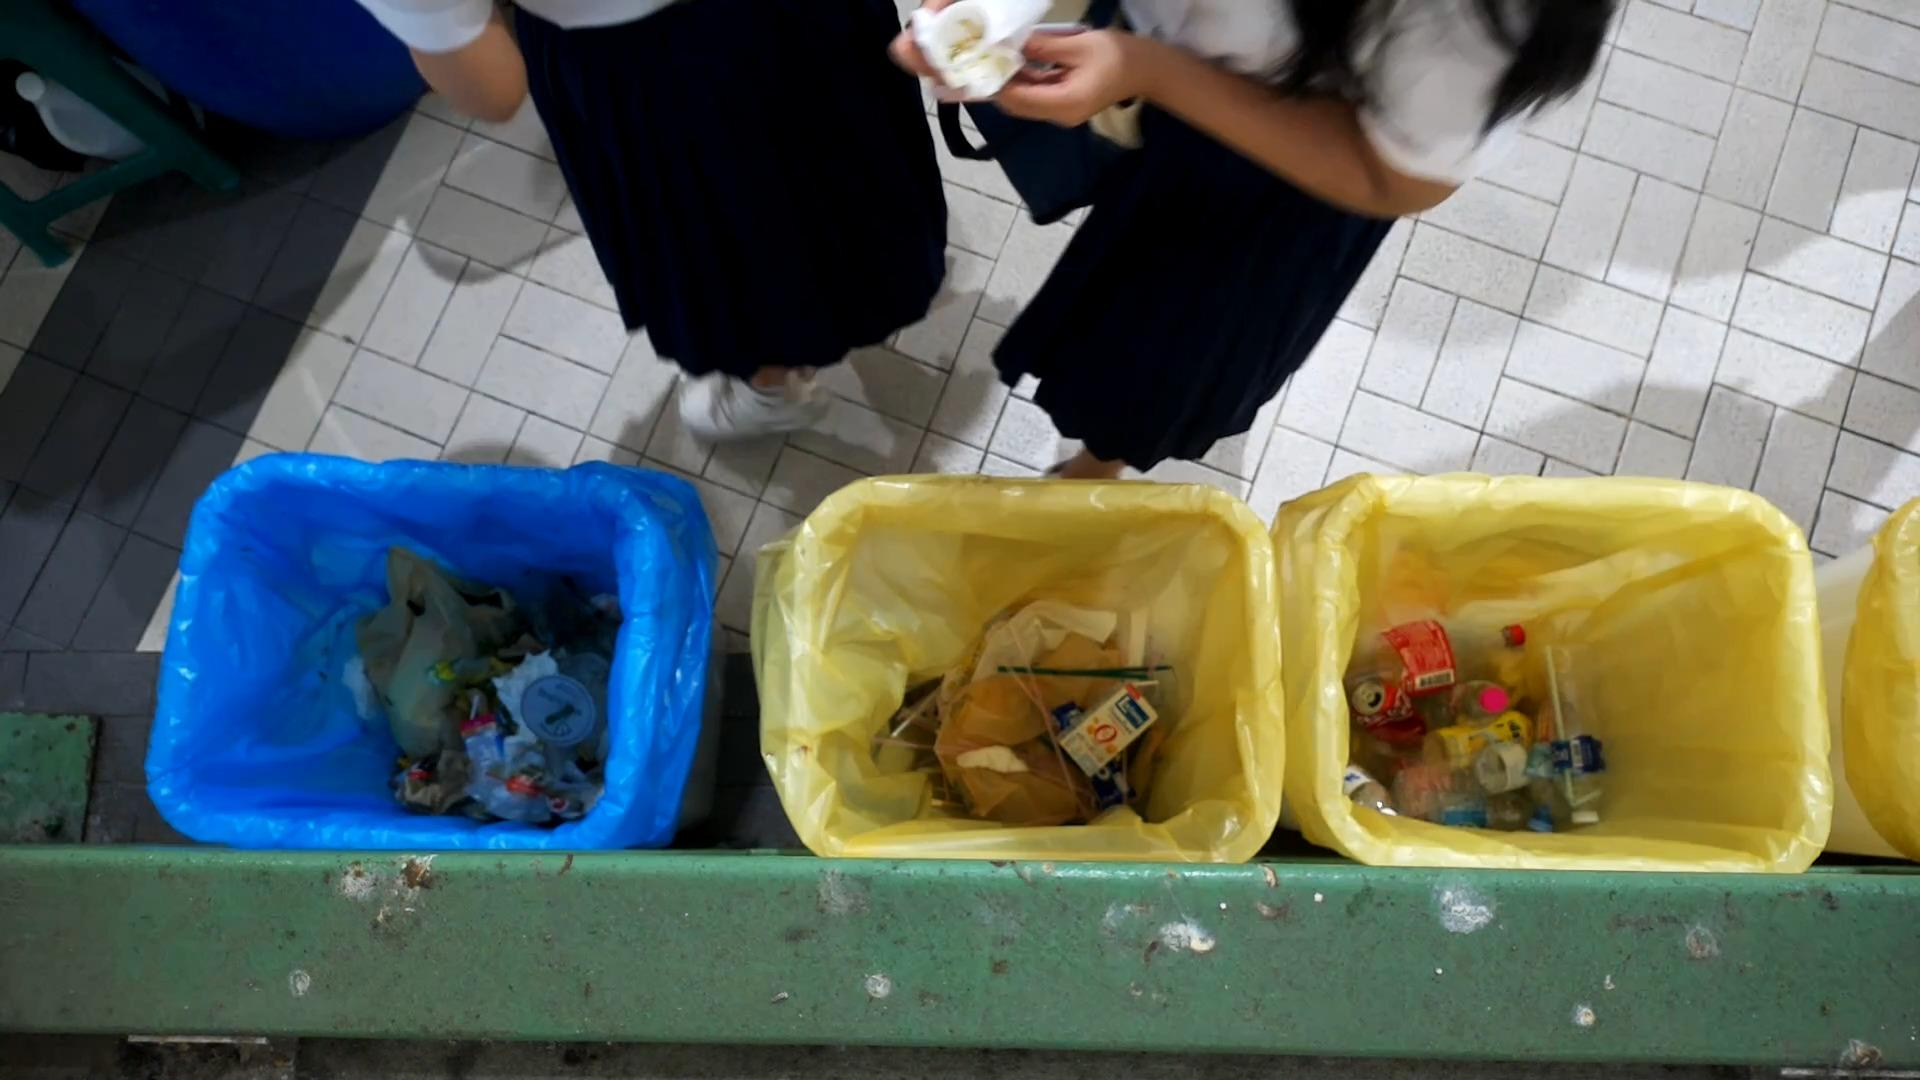can: (1353, 676, 1428, 757)
filled plastic bag: (339, 538, 526, 761)
milk carton: (1054, 679, 1163, 777), (456, 711, 525, 810)
plastic bag: (963, 596, 1154, 695)
plastic bottle: (1342, 607, 1538, 709), (1544, 640, 1615, 825), (1393, 742, 1564, 814), (1505, 678, 1555, 802), (1423, 673, 1516, 733)
plastic cup: (520, 651, 612, 749)
snack packaging: (485, 740, 597, 823), (425, 647, 512, 695), (386, 750, 443, 794)
straw: (1009, 624, 1076, 794), (1553, 645, 1609, 808), (890, 666, 965, 736), (1000, 661, 1060, 729), (1030, 764, 1110, 798), (998, 659, 1172, 671), (996, 665, 1151, 678), (872, 735, 972, 752), (545, 703, 575, 727), (468, 692, 481, 719), (1133, 679, 1160, 687)
tissue paper: (906, 0, 1065, 108), (492, 646, 560, 744), (405, 748, 476, 816), (339, 651, 381, 715), (955, 741, 1031, 773), (572, 781, 608, 819), (462, 798, 484, 822)
